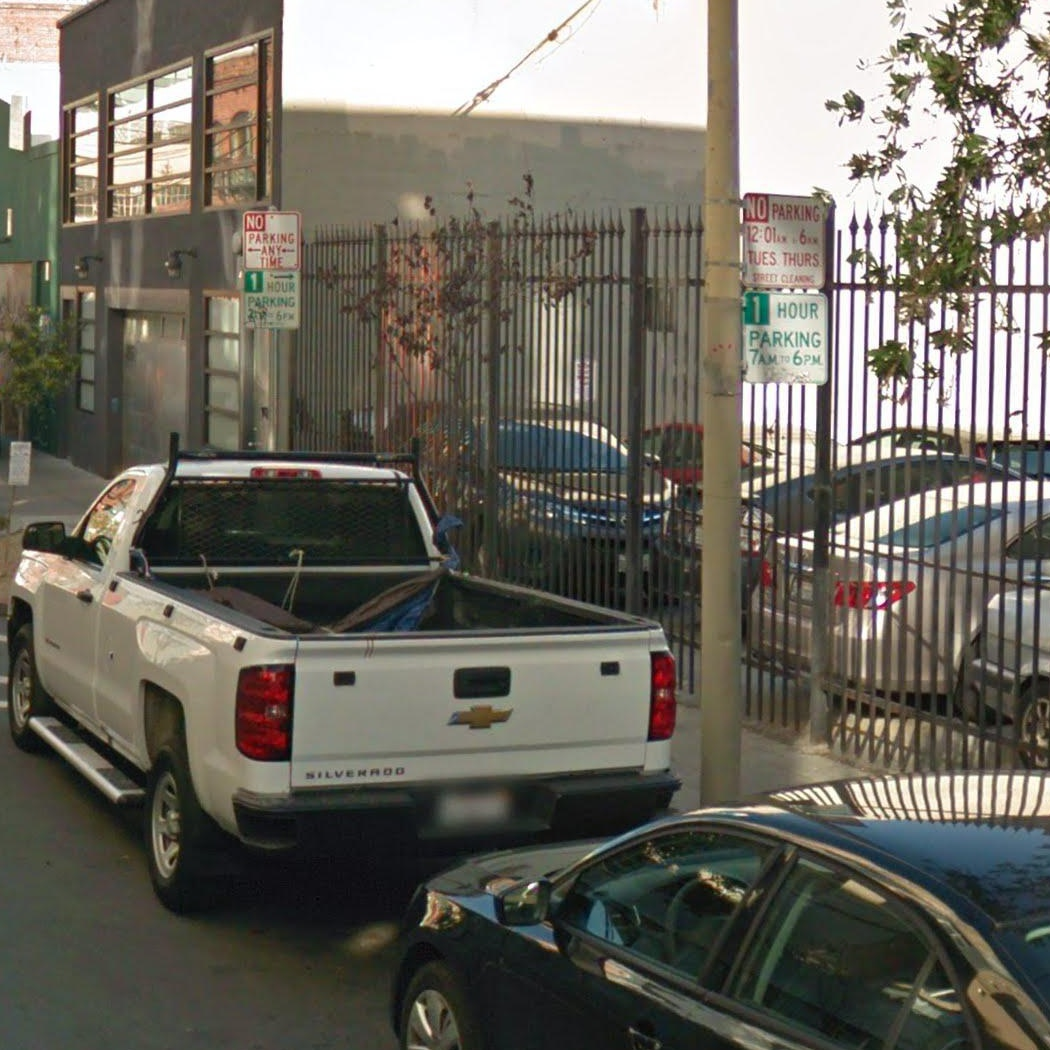1 Hour Parking: (742, 290, 829, 385), (241, 270, 303, 331)
No Parking: (741, 193, 827, 289), (240, 210, 302, 270)
